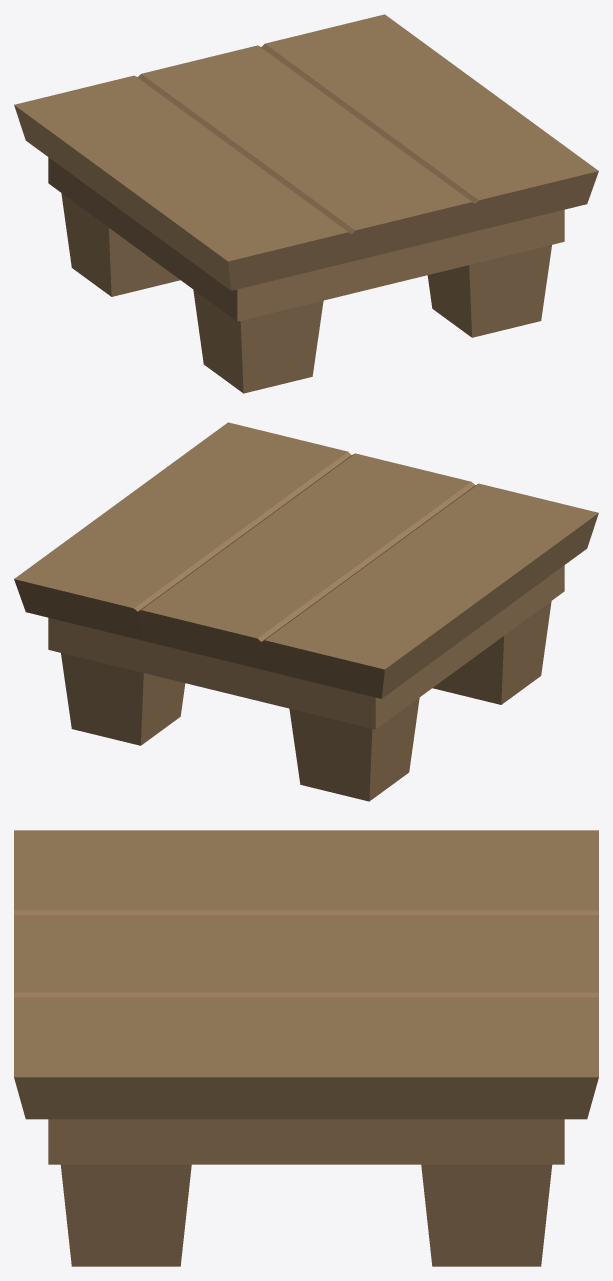
File: SM_Table.fbx
3 views of the same model, one above another, from view 1: azimuth 30°, elevation 25°; view 2: azimuth 150°, elevation 25°; view 3: azimuth 270°, elevation 25° (orthographic). The views are drawn at different scales.
Visible parts, largest first — view 1: table.003; view 2: table.003; view 3: table.003.
Part boxes in pixels (x1=…): table.003: x1=14, y1=14, x2=598, y2=393; table.003: x1=14, y1=422, x2=598, y2=801; table.003: x1=14, y1=830, x2=598, y2=1266.
Size of the model in its own units: 91.45 by 36.87 by 91.45.
